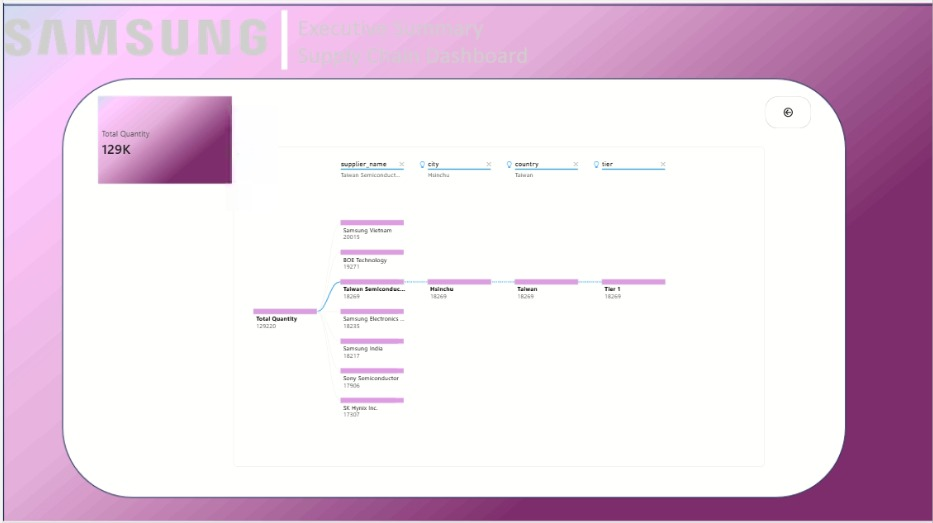

This screenshot's page, from the dashboard's own definition file:
{"tool":"powerbi","page":{"name":"Suppliers Details","canvas":[1920,1080],"ordinal":2},"visuals":[{"type":"image","box":[0,0,1920,1081],"z":0},{"type":"actionButton","box":[1573.5,198.3,95.2,66.7],"z":1},{"type":"cardVisual","fields":{"Data":["fact_procurement.Total Quantity"]},"box":[188.2,199,301.2,193.6],"z":2},{"type":"decompositionTreeVisual","fields":{"Analyze":["fact_procurement.Total Quantity"],"ExplainBy":["dim_supplier.supplier_name","dim_supplier.city","dim_supplier.country","dim_supplier.tier"]},"box":[476.1,302.3,1097.4,660.6],"z":3}]}

Visuals, with their boxes in screenshot pixels (x1, y1, x2, y2), scaled from the page's 1920x1080 canvas onto the 933x523 screenshot:
image: region(0, 0, 932, 522)
actionButton: region(765, 96, 811, 128)
cardVisual - fact_procurement.Total Quantity: region(91, 96, 238, 190)
decompositionTreeVisual - fact_procurement.Total Quantity x dim_supplier.supplier_name: region(231, 146, 765, 466)
